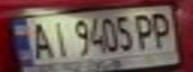0: (103, 14, 121, 53)
4: (87, 15, 109, 55)
5: (115, 12, 136, 52)
9: (69, 16, 90, 56)
A: (24, 19, 54, 60)
I: (45, 18, 72, 58)
P: (145, 9, 178, 50), (133, 10, 160, 51)
